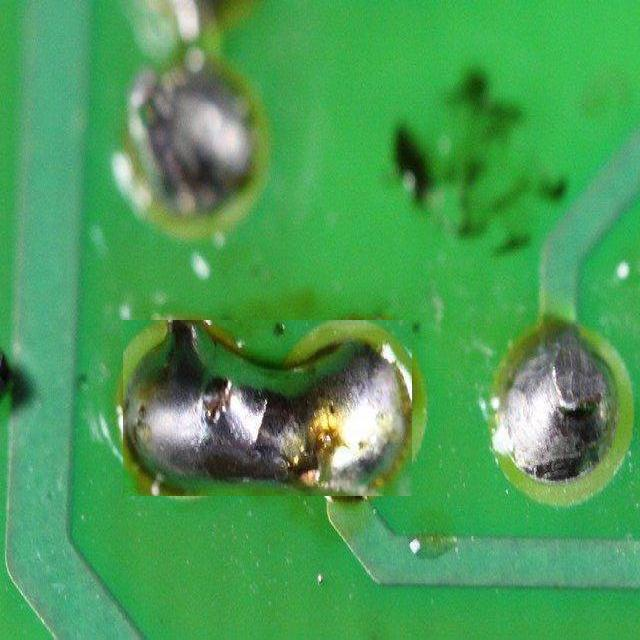Short_circuit: (122, 320, 412, 496)
